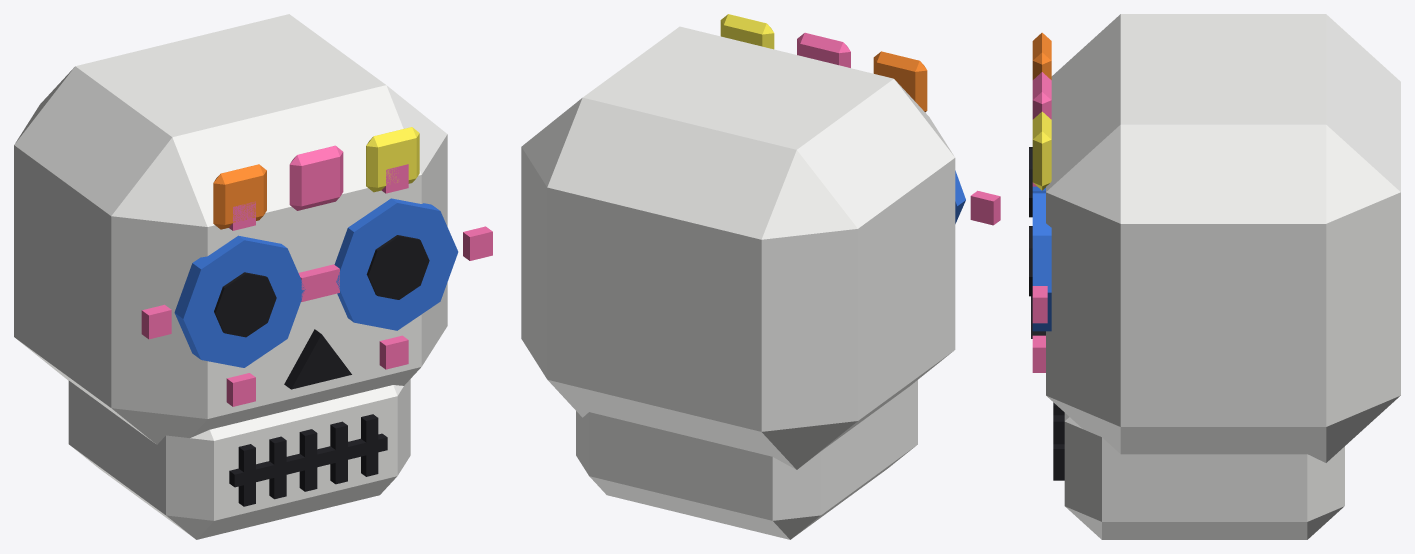
The model's file is SugarSkull.fbx.
The picture shows the model from 3 angles, left to right: view 1: azimuth 30°, elevation 25°; view 2: azimuth 150°, elevation 25°; view 3: azimuth 270°, elevation 25°; orthographic projection. The views are drawn at different scales.
Visible parts, largest first — view 1: SugarSkull; view 2: SugarSkull; view 3: SugarSkull.
Part boxes in pixels (x1,y1,x2,y2): SugarSkull: (14,14,492,539); SugarSkull: (521,14,1000,539); SugarSkull: (1029,14,1400,539).
Bounding box in the file's own units: 2.25 × 2.5 × 1.99.
Materials: 1 (1 with a texture image).
